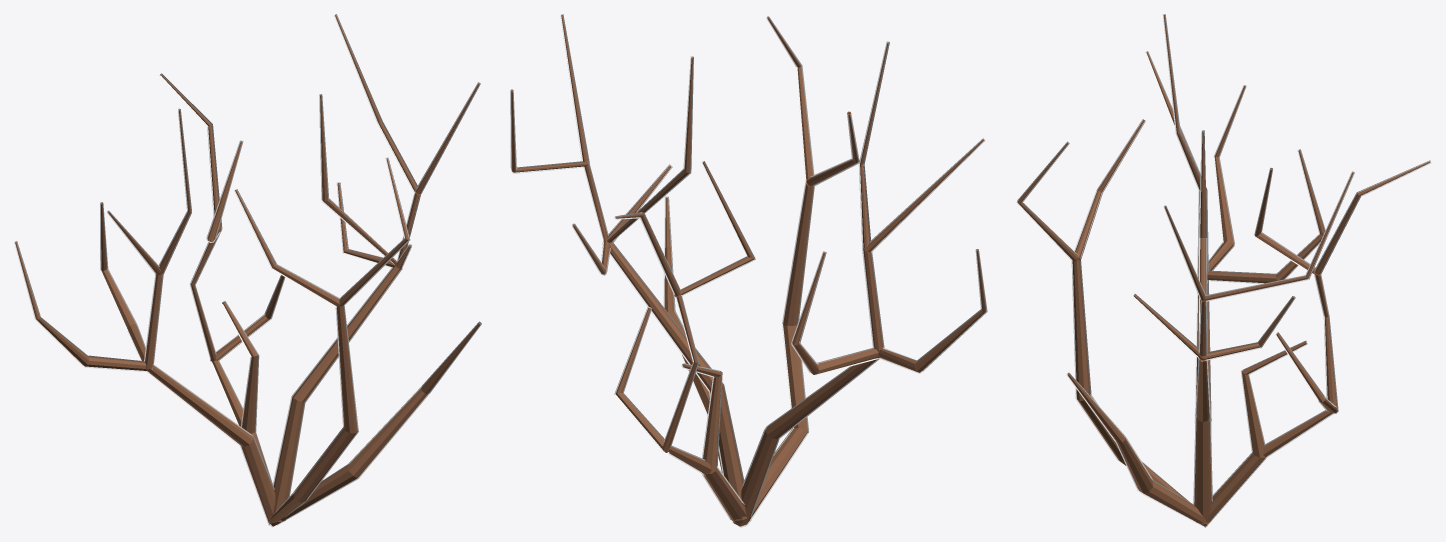
The model's file is small-tree.glb.
The picture shows the model from 3 angles, left to right: view 1: azimuth 30°, elevation 25°; view 2: azimuth 150°, elevation 25°; view 3: azimuth 270°, elevation 25°; orthographic projection. The views are drawn at different scales.
Parts seen in each view (by area): view 1: smallTree; view 2: smallTree; view 3: smallTree.
Part boxes in pixels (left/top/right/bottom): smallTree: left=14, top=14, right=481, bottom=527; smallTree: left=510, top=14, right=987, bottom=527; smallTree: left=1016, top=14, right=1431, bottom=527.
Bounding box in the file's own units: 1.45 × 1.5 × 1.23.
